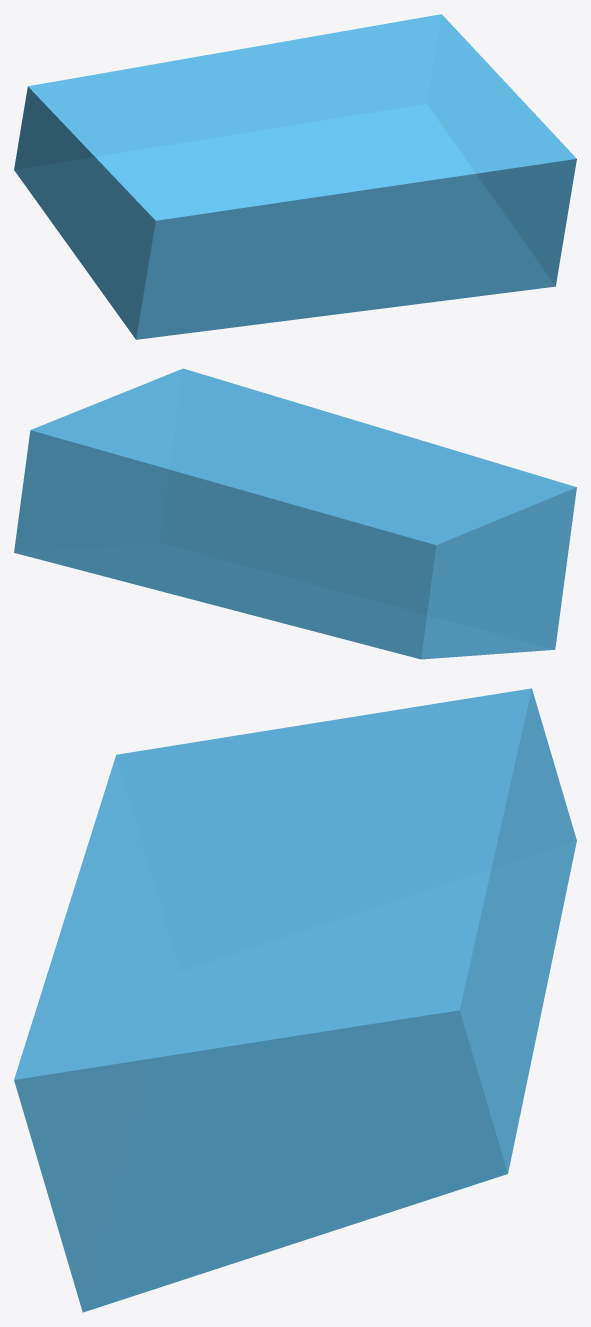
The model's file is Event_420094457_HErechit_95.fbx.
3 views of the same model, one above another, from view 1: azimuth 30°, elevation 25°; view 2: azimuth 150°, elevation 25°; view 3: azimuth 270°, elevation 25° (orthographic). The views are drawn at different scales.
Parts seen in each view (by area): view 1: Model; view 2: Model; view 3: Model.
Part boxes in pixels (left/top/right/bottom): Model: left=14, top=14, right=576, bottom=339; Model: left=14, top=368, right=576, bottom=659; Model: left=14, top=688, right=576, bottom=1312.
Bounding box in the file's own units: 0.8135 × 0.3854 × 0.6234.
